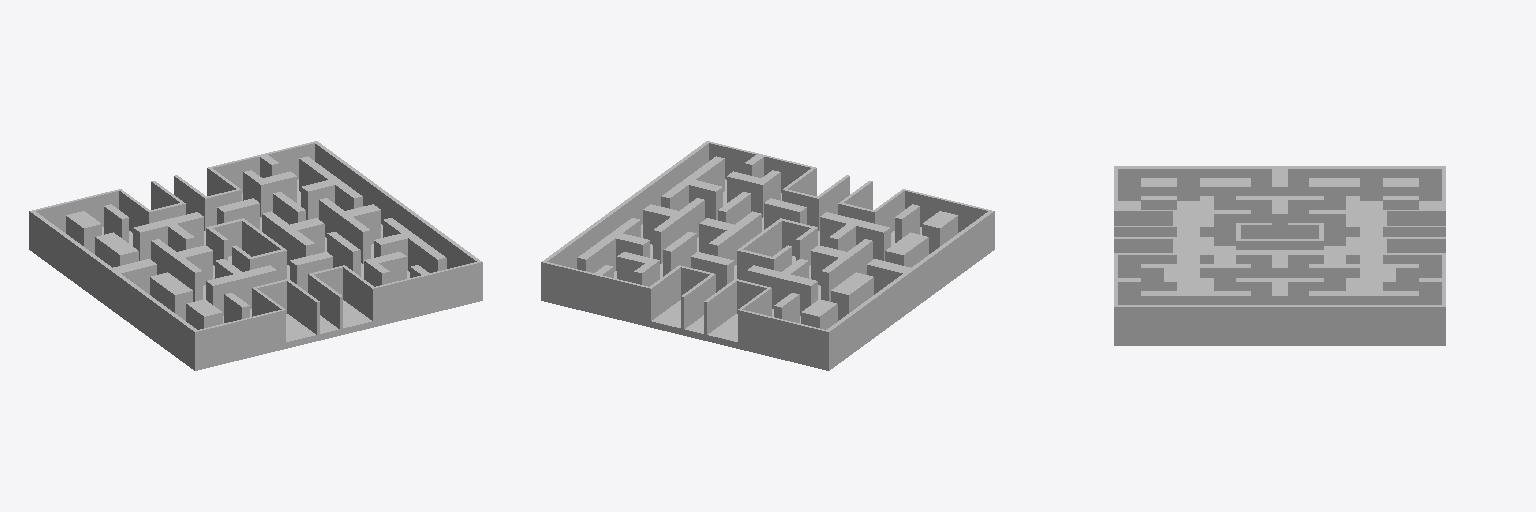
Rendered from pacmanRotado90Z.obj.
3 views of the same model, side by side, from view 1: azimuth 30°, elevation 25°; view 2: azimuth 150°, elevation 25°; view 3: azimuth 270°, elevation 25° (orthographic).
Visible parts, largest first — view 1: NivelPacman; view 2: NivelPacman; view 3: NivelPacman.
Part boxes in pixels (x1,y1,x2,y2): NivelPacman: (29, 141, 482, 370); NivelPacman: (541, 141, 994, 370); NivelPacman: (1114, 166, 1445, 345).
Size of the model in its own units: 46.78 by 6.04 by 46.64.